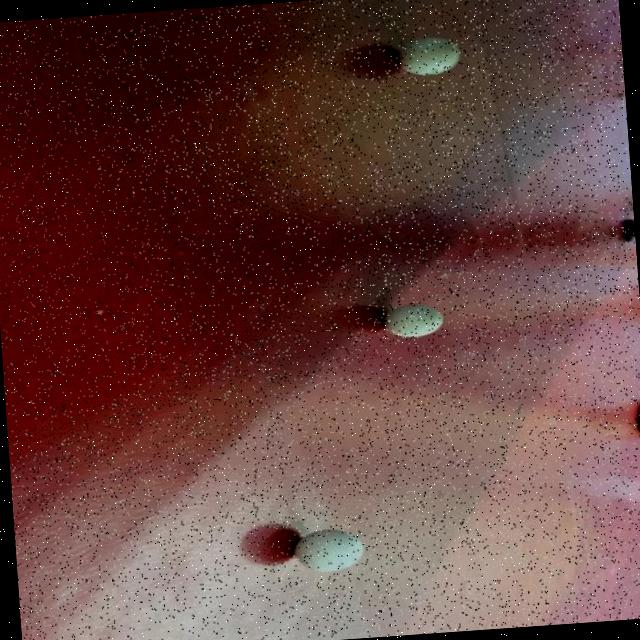ping-pong-ball: (291, 526, 365, 576), (393, 36, 462, 80), (380, 302, 446, 342)
